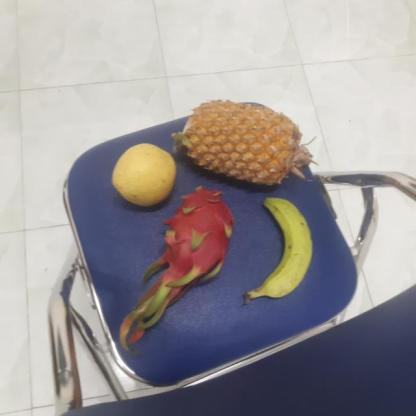banana: (250, 194, 314, 299)
pear: (108, 142, 178, 208)
pineapple: (173, 97, 309, 190)
pitaya: (156, 187, 233, 280)
